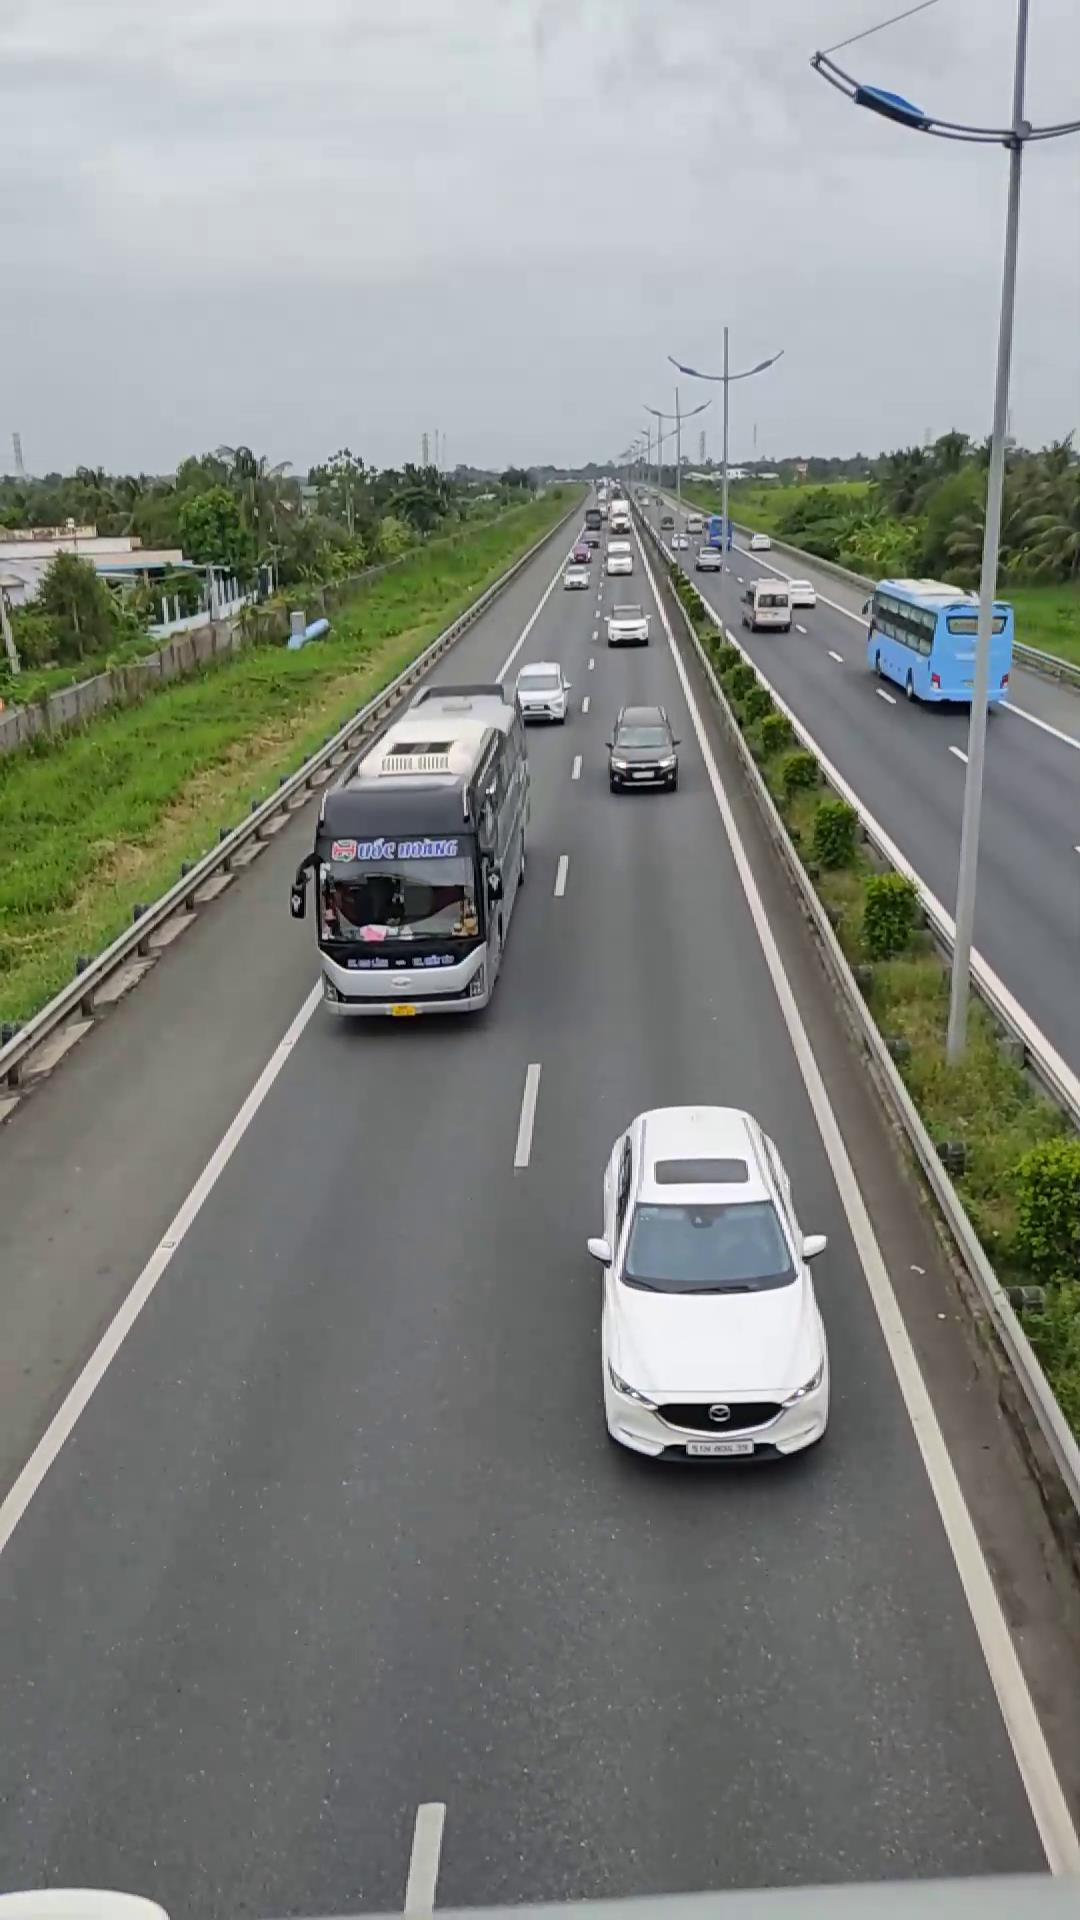bus: (298, 690, 531, 1024)
car: (588, 1102, 835, 1466), (604, 704, 681, 792), (505, 660, 575, 724)
